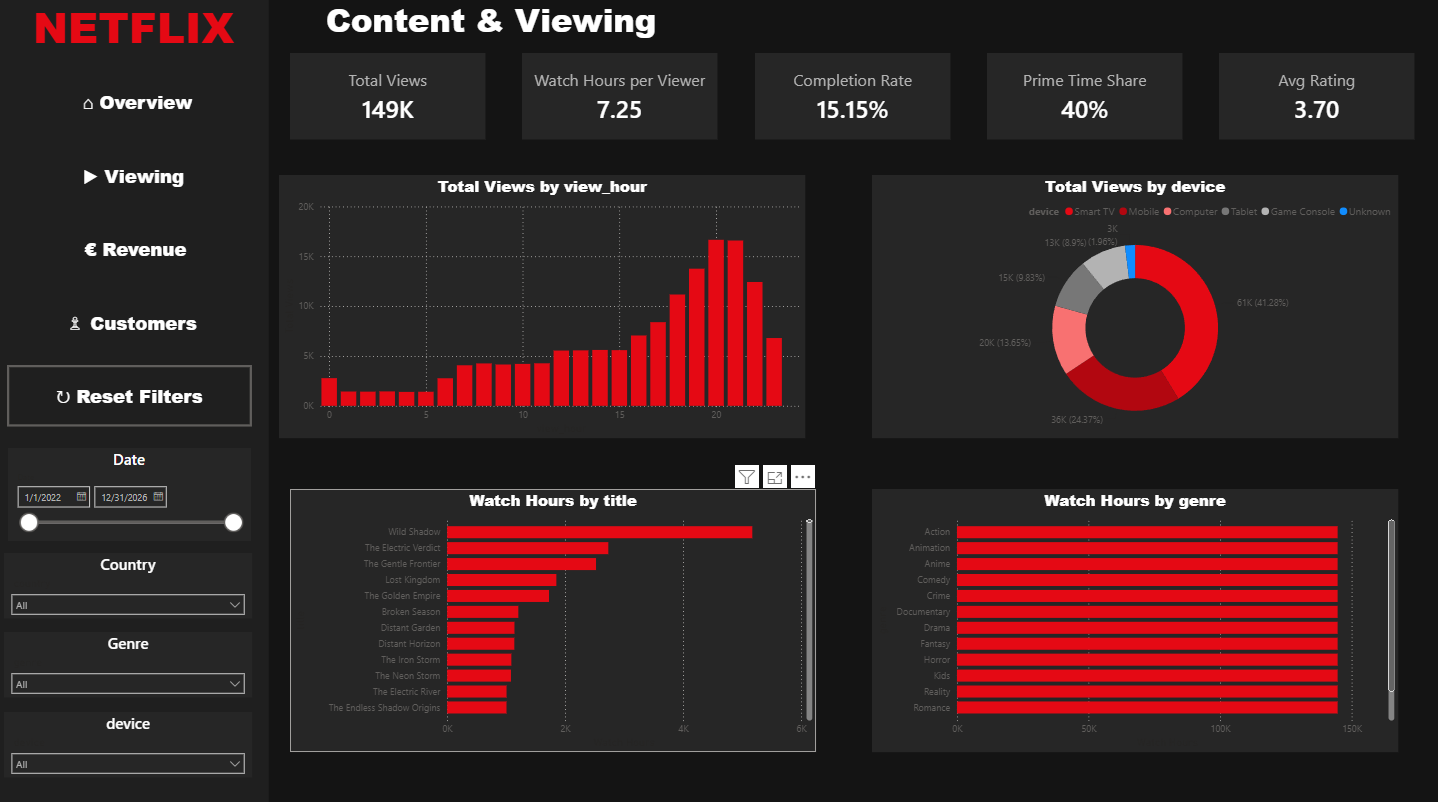

This screenshot's page, from the dashboard's own definition file:
{"tool":"powerbi","page":{"name":"2. Content & Viewing","canvas":[1920,1080],"ordinal":1},"visuals":[{"type":"shape","box":[0,0,360,1080],"z":0},{"type":"textbox","box":[0,0,360.7,99.3],"z":1000},{"type":"textbox","box":[360.7,0,590.6,80.1],"z":2000},{"type":"actionButton","box":[17.2,201.8,325.8,81.9],"z":3000},{"type":"actionButton","box":[14.7,397.1,325.8,81.9],"z":4000},{"type":"actionButton","box":[19.7,299.4,325.8,81.9],"z":5000},{"type":"actionButton","box":[22.2,104.1,325.8,81.9],"z":6001},{"type":"cardVisual","fields":{"Data":["_Measures.Total Views"]},"box":[388.5,80,260,115],"z":6002},{"type":"cardVisual","fields":{"Data":["_Measures.Watch Hours per Viewer"]},"box":[697.4,80,260,115],"z":6003},{"type":"cardVisual","fields":{"Data":["_Measures.Completion Rate"]},"box":[1006.3,80,260,115],"z":6004},{"type":"cardVisual","fields":{"Data":["_Measures.Prime Time Share"]},"box":[1315.1,80,260,115],"z":6005},{"type":"cardVisual","fields":{"Data":["_Measures.Avg Rating"]},"box":[1624,80,260,115],"z":6006},{"type":"clusteredColumnChart","fields":{"Category":["viewing_history.view_hour"],"Y":["_Measures.Total Views"]},"box":[374,242,700,350],"z":6007},{"type":"barChart","fields":{"Category":["title_genres.genre"],"Y":["_Measures.Watch Hours"]},"box":[1162,660,700,350],"z":6008},{"type":"donutChart","fields":{"Category":["viewing_history.device"],"Y":["_Measures.Total Views"]},"box":[1162,242,700,350],"z":6010},{"type":"barChart","fields":{"Category":["titles.title"],"Y":["_Measures.Watch Hours"]},"box":[388,660,700,350],"z":6011},{"type":"actionButton","box":[12.2,494.8,325.8,81.9],"z":6012},{"type":"slicer","title":"Date","fields":{"Values":["Date.Date"]},"box":[13.3,605,321.7,123.3],"z":6013},{"type":"slicer","title":"Country","fields":{"Values":["users.country"]},"box":[8.3,745,330,86.7],"z":6014},{"type":"slicer","title":"Genre","fields":{"Values":["title_genres.genre"]},"box":[8.3,850,330,86.7],"z":6015},{"type":"slicer","title":"device","fields":{"Values":["viewing_history.device"]},"box":[8.3,956.7,330,86.7],"z":6016}]}

Visuals, with their boxes on the page's 1920x1080 design canvas (x1, y1, x2, y2). These are canvas units, not pixel positions in the 1438x802 screenshot, which may show the page scaled, cropped or inside an application window:
shape: 0, 0, 360, 1080
textbox: 0, 0, 361, 99
textbox: 361, 0, 951, 80
actionButton: 17, 202, 343, 284
actionButton: 15, 397, 340, 479
actionButton: 20, 299, 346, 381
actionButton: 22, 104, 348, 186
cardVisual - _Measures.Total Views: 388, 80, 648, 195
cardVisual - _Measures.Watch Hours per Viewer: 697, 80, 957, 195
cardVisual - _Measures.Completion Rate: 1006, 80, 1266, 195
cardVisual - _Measures.Prime Time Share: 1315, 80, 1575, 195
cardVisual - _Measures.Avg Rating: 1624, 80, 1884, 195
clusteredColumnChart - viewing_history.view_hour x _Measures.Total Views: 374, 242, 1074, 592
barChart - title_genres.genre x _Measures.Watch Hours: 1162, 660, 1862, 1010
donutChart - viewing_history.device x _Measures.Total Views: 1162, 242, 1862, 592
barChart - titles.title x _Measures.Watch Hours: 388, 660, 1088, 1010
actionButton: 12, 495, 338, 577
"Date" slicer: 13, 605, 335, 728
"Country" slicer: 8, 745, 338, 832
"Genre" slicer: 8, 850, 338, 937
"device" slicer: 8, 957, 338, 1043
